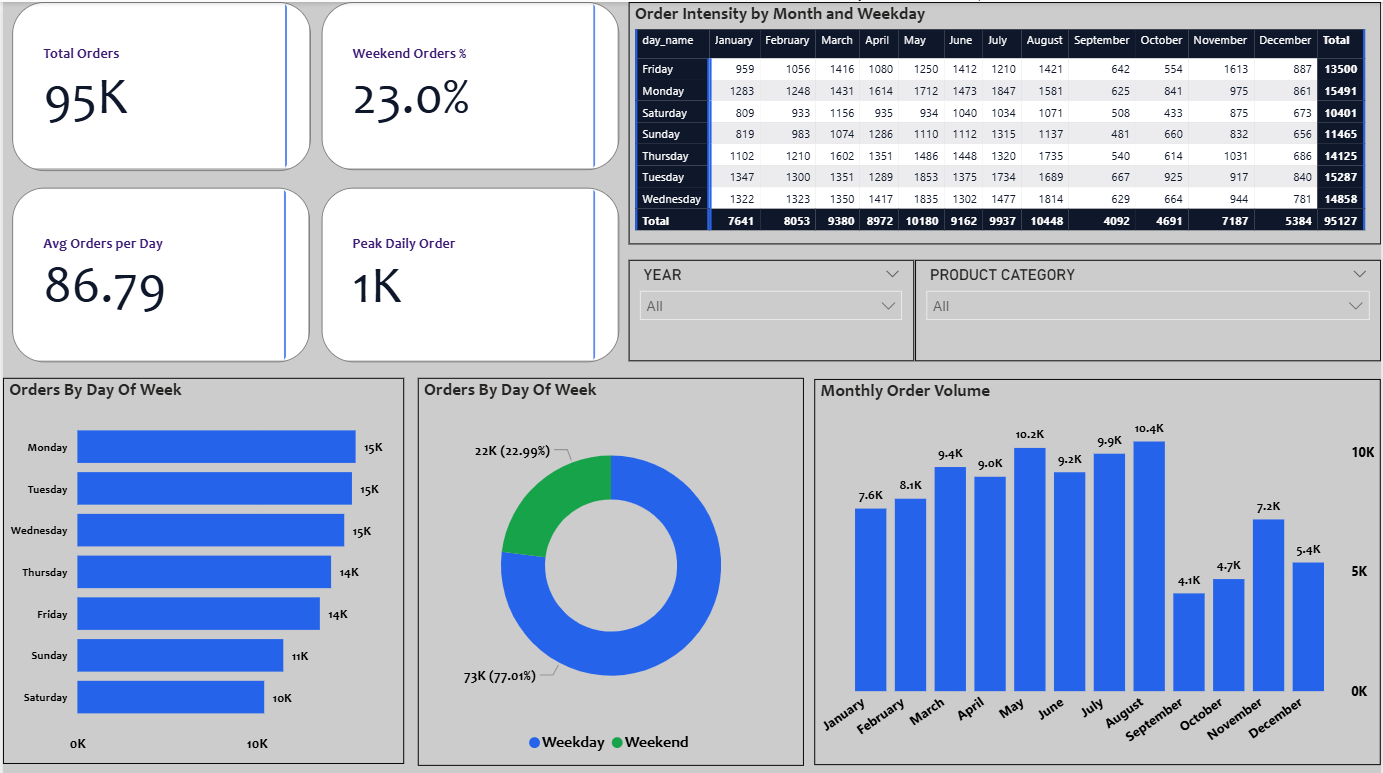

What the dashboard file says about the page in this screenshot:
{"tool":"powerbi","page":{"name":"Operational Analysis","canvas":[1280,720],"ordinal":4},"visuals":[{"type":"slicer","title":"Product Category","fields":{"Values":["dim_product.product_category_name_englist"]},"box":[922,5.3,351.1,73.4],"z":0,"group":"g1"},{"type":"cardVisual","fields":{"Data":["_measures.Total Orders"]},"box":[8.5,68.1,287.4,124.5],"z":0},{"type":"slicer","title":"Year","fields":{"Values":["dim_date.year"]},"box":[616.3,5.3,305.7,73.4],"z":1000,"group":"g1"},{"type":"clusteredBarChart","title":"Orders by Day of Week","fields":{"Category":["dim_date.day_name"],"Y":["_measures.Total Orders"]},"box":[0,348.9,372.2,358.9],"z":1000},{"type":"cardVisual","fields":{"Data":["_measures.Avg Orders per Day"]},"box":[8.5,205.4,287.4,128.8],"z":2000},{"type":"columnChart","title":"Monthly Order Volume","fields":{"Category":["dim_date.month_name"],"Y":["_measures.Total Orders"]},"box":[753.3,350,526.7,358.9],"z":3000},{"type":"cardVisual","fields":{"Data":["_measures.Peak Daily Order"]},"box":[295.9,205.4,303.4,128.8],"z":4000},{"type":"pivotTable","title":"Order Intensity by Month and Weekday","fields":{"Rows":["dim_date.day_name"],"Columns":["dim_date.month_name"],"Values":["_measures.Total Orders"]},"box":[617.4,93.7,655.7,242.7],"z":5000},{"type":"cardVisual","fields":{"Data":["_measures.Weekend Orders %"]},"box":[295.9,68.1,303.4,124.5],"z":6000},{"type":"donutChart","title":"Order Split","fields":{"Category":["dim_date.day_type"],"Y":["_measures.Total Orders"]},"box":[385.6,348.9,358.9,360],"z":7000},{"type":"group","id":"g1","title":"Group 1","box":[616.3,5.3,656.7,73.4],"z":8000}]}

Visuals, with their boxes in screenshot pixels (x1, y1, x2, y2), scaled from the page's 1280x720 canvas onto the 1383x773 screenshot:
"Product Category" slicer: bbox=[996, 6, 1376, 84]
cardVisual - _measures.Total Orders: bbox=[9, 73, 320, 207]
"Year" slicer: bbox=[666, 6, 996, 84]
"Orders by Day of Week" clusteredBarChart: bbox=[0, 375, 402, 760]
cardVisual - _measures.Avg Orders per Day: bbox=[9, 221, 320, 359]
"Monthly Order Volume" columnChart: bbox=[814, 376, 1382, 761]
cardVisual - _measures.Peak Daily Order: bbox=[320, 221, 648, 359]
"Order Intensity by Month and Weekday" pivotTable: bbox=[667, 101, 1376, 361]
cardVisual - _measures.Weekend Orders %: bbox=[320, 73, 648, 207]
"Order Split" donutChart: bbox=[417, 375, 804, 761]
"Group 1" group: bbox=[666, 6, 1375, 84]
